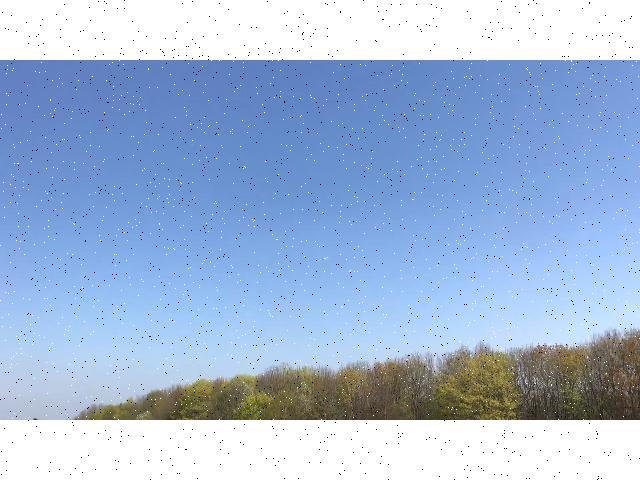Anti-Drone: (306, 248, 340, 268)
